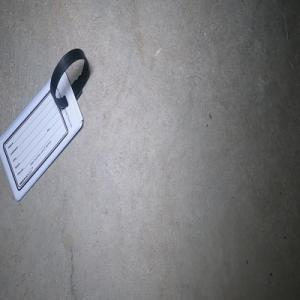LuggageTag: (0, 46, 90, 203)
